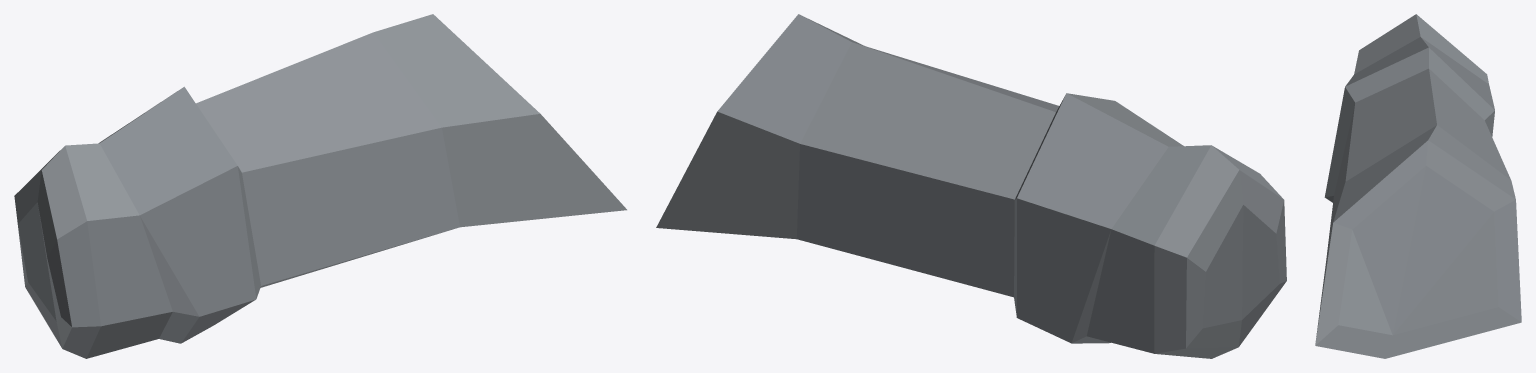
File: Chr_ArmUpperRight_Female_15_Static.fbx
3 views of the same model, side by side, from view 1: azimuth 30°, elevation 25°; view 2: azimuth 150°, elevation 25°; view 3: azimuth 270°, elevation 25° (orthographic). The views are drawn at different scales.
Visible parts, largest first — view 1: Chr_ArmUpperRight_Female_15_Static; view 2: Chr_ArmUpperRight_Female_15_Static; view 3: Chr_ArmUpperRight_Female_15_Static.
Boxes of the visible parts, left/top/right/bottom form: Chr_ArmUpperRight_Female_15_Static: left=14, top=14, right=626, bottom=358; Chr_ArmUpperRight_Female_15_Static: left=656, top=14, right=1286, bottom=358; Chr_ArmUpperRight_Female_15_Static: left=1315, top=14, right=1521, bottom=358.
Bounding box in the file's own units: 0.3512 × 0.1557 × 0.136.
